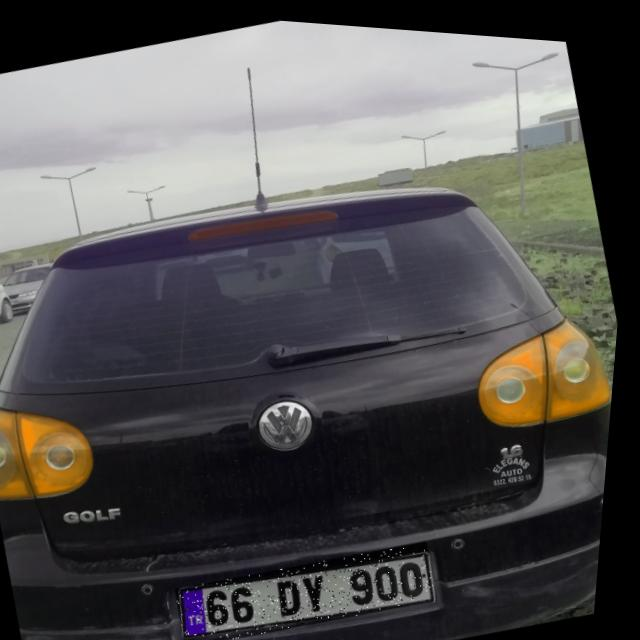license_plate: (181, 519, 451, 640)
